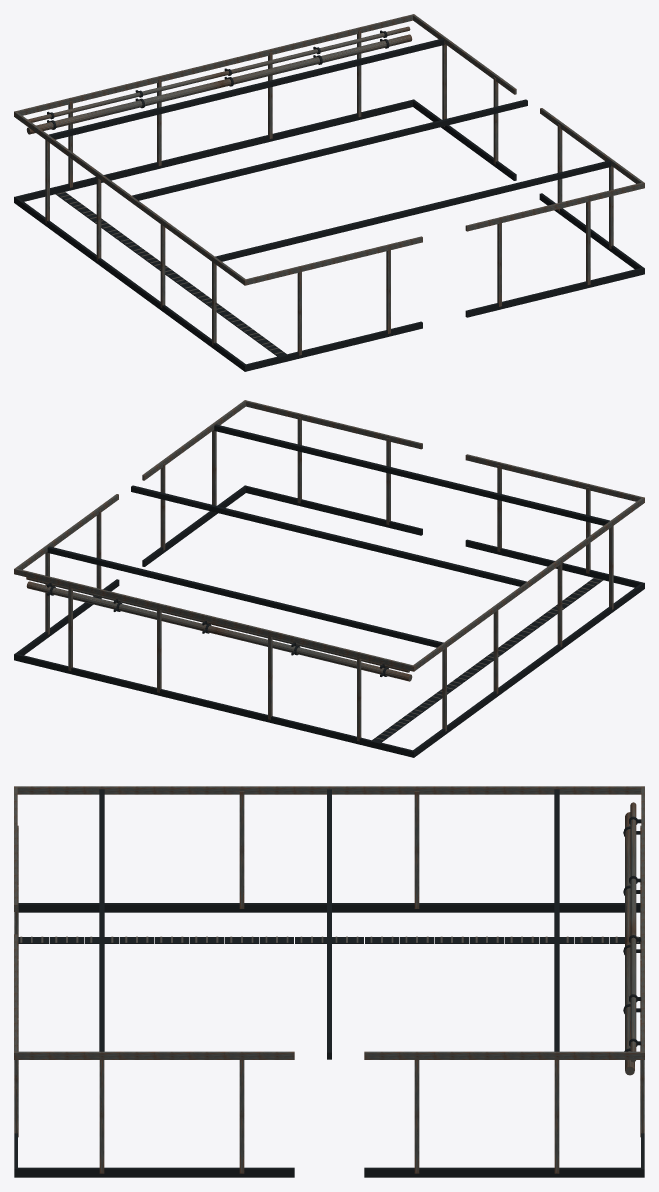
The model's file is ServiceStructure01.obj.
3 views of the same model, one above another, from view 1: azimuth 30°, elevation 25°; view 2: azimuth 150°, elevation 25°; view 3: azimuth 270°, elevation 25° (orthographic). The views are drawn at different scales.
Parts seen in each view (by area): view 1: ServiceStructure01; view 2: ServiceStructure01; view 3: ServiceStructure01.
Boxes of the visible parts, <box> form: ServiceStructure01: <box>14,14,644,371</box>; ServiceStructure01: <box>14,400,644,757</box>; ServiceStructure01: <box>14,786,644,1177</box>.
Size of the model in its own units: 18.02 by 3.93 by 18.02.
3 materials, 2 textured.
